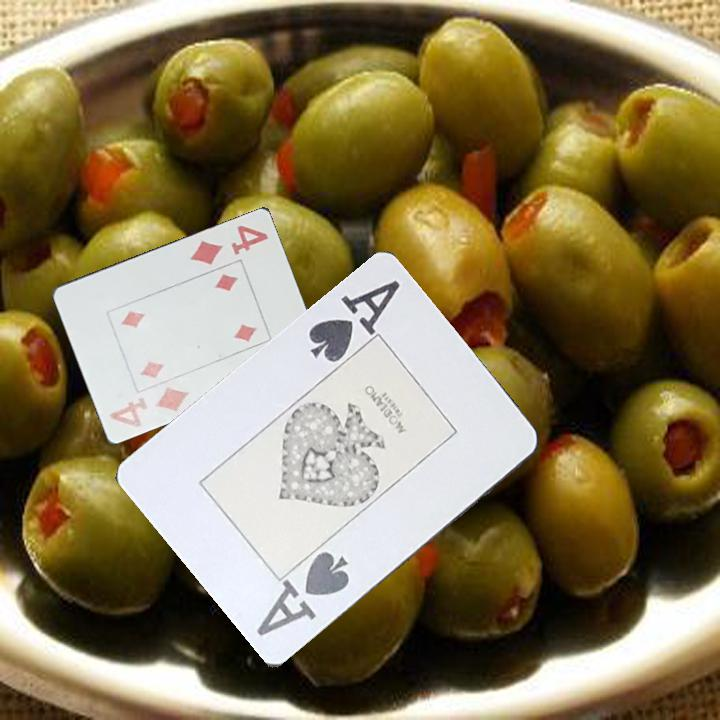4d: (106, 383, 192, 430), (186, 221, 271, 268)
As: (252, 548, 353, 640), (304, 277, 403, 367)
